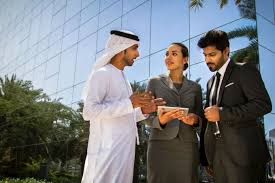middle_eastern_Female: (162, 43, 190, 70)
